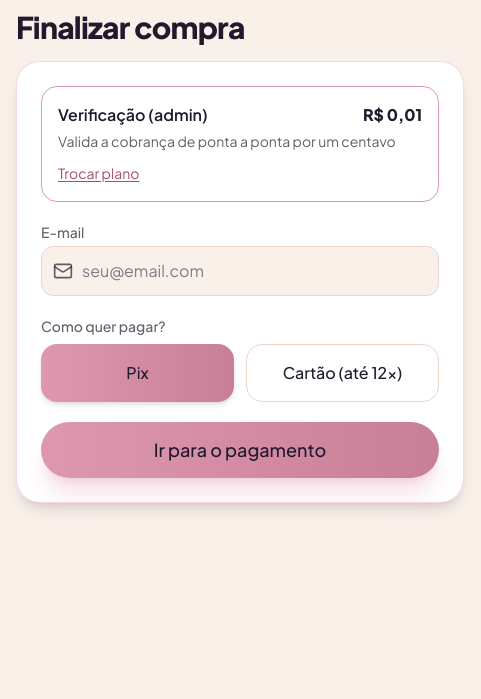
Test case: Checkout › ?plano=teste pré-seleciona o plano de verificação, mas ele nunca aparece nas opções
Expected: the text "Verificação (admin)" is shown, [58,103,208,127]
Expected: the text "R$ 0,01" is shown, [363,103,422,127]
Click the button "Trocar plano" at (99, 173), box [58,163,139,183]
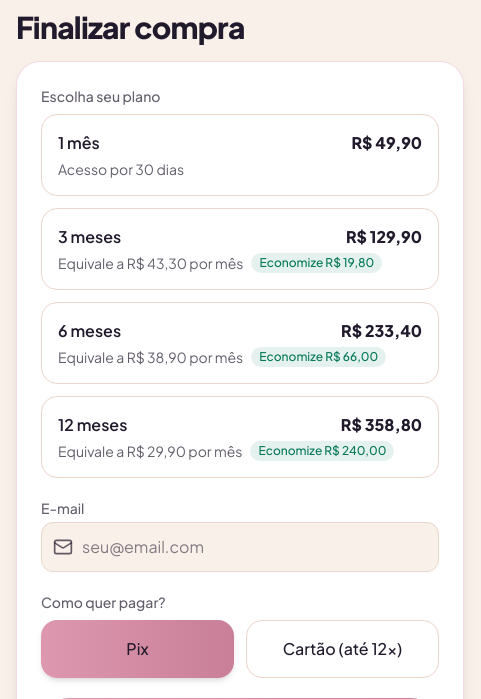
Expected: the number of radio buttons labelled "1 mês R$ 49,90 Acesso por 30 dias" is 4, [41,114,439,196]; [41,208,439,290]; [41,302,439,384]; [41,396,439,478]
Expected: the text "Verificação" is gone
Expected: the text "0,01" is gone
